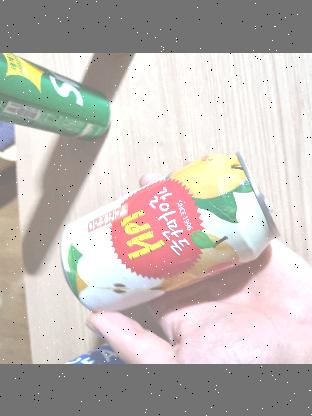Can: (64, 151, 283, 327), (0, 53, 114, 142)
